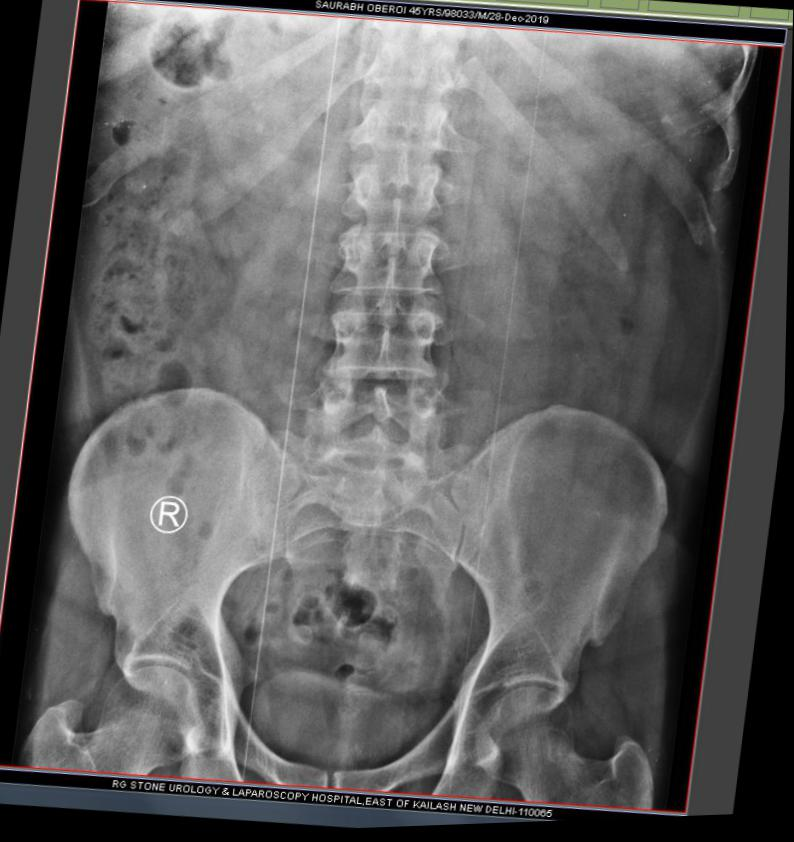bladder: (237, 644, 443, 787)
vertebrae: (344, 90, 452, 164)
